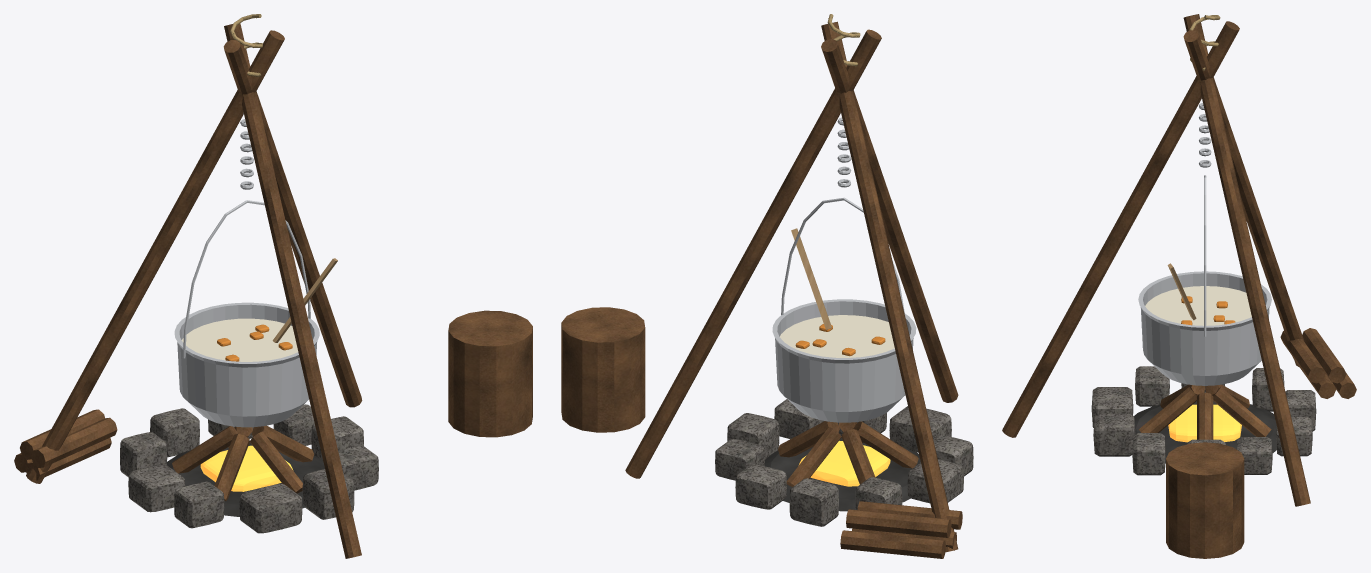
The model's file is panelao_tripe.glb.
The picture shows the model from 3 angles, left to right: view 1: azimuth 30°, elevation 25°; view 2: azimuth 150°, elevation 25°; view 3: azimuth 270°, elevation 25°; orthographic projection. The views are drawn at different scales.
Visible parts, largest first — view 1: panelao_tripe_madeira_lenha, panelao_tripe_pedra, panelao_tripe_aco, panelao_tripe_massa, panelao_tripe_brasa, panelao_tripe_cinza_fogueira; view 2: panelao_tripe_madeira_lenha, panelao_tripe_pedra, panelao_tripe_aco, panelao_tripe_massa, panelao_tripe_cinza_fogueira, panelao_tripe_brasa, panelao_tripe_madeira_crua; view 3: panelao_tripe_madeira_lenha, panelao_tripe_aco, panelao_tripe_pedra, panelao_tripe_massa, panelao_tripe_brasa, panelao_tripe_cinza_fogueira.
Boxes of the visible parts, left/top/right/bottom form: panelao_tripe_madeira_lenha: left=14, top=23, right=532, bottom=558; panelao_tripe_pedra: left=120, top=404, right=378, bottom=533; panelao_tripe_aco: left=174, top=113, right=319, bottom=427; panelao_tripe_massa: left=181, top=318, right=298, bottom=361; panelao_tripe_brasa: left=200, top=445, right=293, bottom=491; panelao_tripe_cinza_fogueira: left=167, top=442, right=324, bottom=516; panelao_tripe_madeira_lenha: left=561, top=21, right=962, bottom=558; panelao_tripe_pedra: left=715, top=399, right=973, bottom=526; panelao_tripe_aco: left=772, top=112, right=916, bottom=422; panelao_tripe_massa: left=780, top=315, right=894, bottom=357; panelao_tripe_cinza_fogueira: left=764, top=437, right=920, bottom=511; panelao_tripe_brasa: left=798, top=440, right=890, bottom=486; panelao_tripe_madeira_crua: left=791, top=228, right=831, bottom=329; panelao_tripe_madeira_lenha: left=1002, top=14, right=1356, bottom=558; panelao_tripe_aco: left=1138, top=102, right=1271, bottom=385; panelao_tripe_pedra: left=1091, top=366, right=1316, bottom=475; panelao_tripe_massa: left=1145, top=286, right=1251, bottom=325; panelao_tripe_brasa: left=1168, top=404, right=1241, bottom=442; panelao_tripe_cinza_fogueira: left=1134, top=401, right=1276, bottom=463.
Bounding box in the file's own units: 2.06 × 2.05 × 1.54.
Materials: 9 (5 with a texture image).
